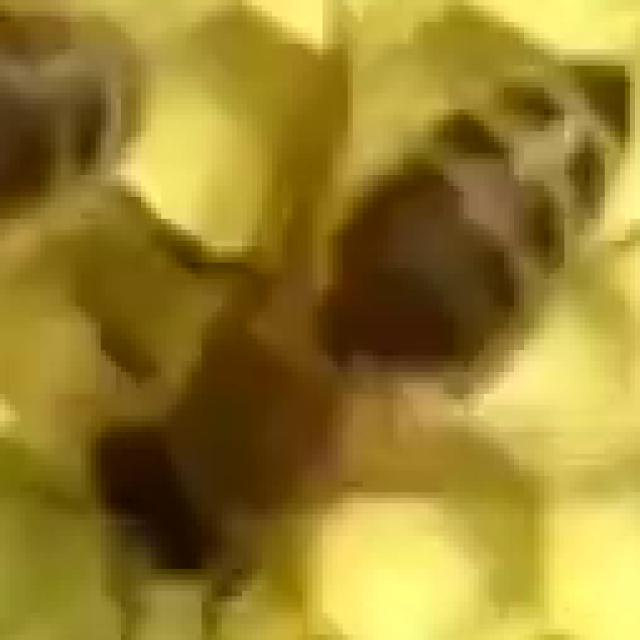honeybee: (78, 66, 623, 534)
